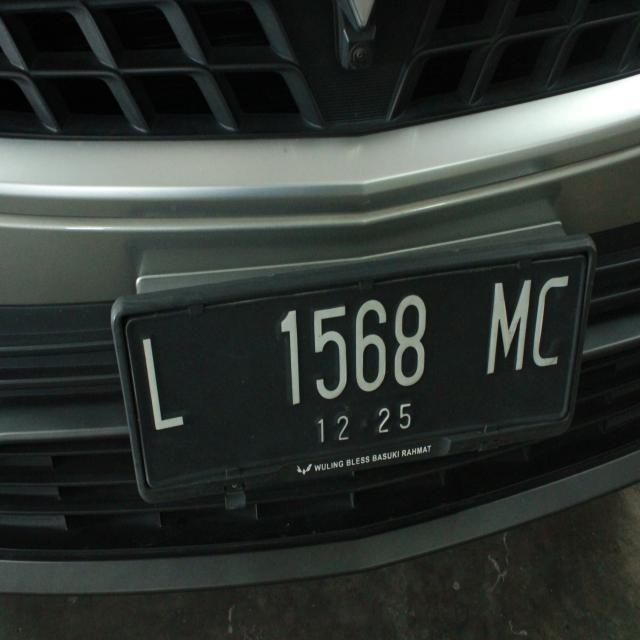1: (268, 304, 310, 412)
5: (308, 298, 349, 400)
6: (350, 284, 391, 400)
8: (391, 280, 429, 394)
C: (528, 260, 572, 374)
L: (132, 322, 194, 446)
M: (480, 259, 531, 382)
